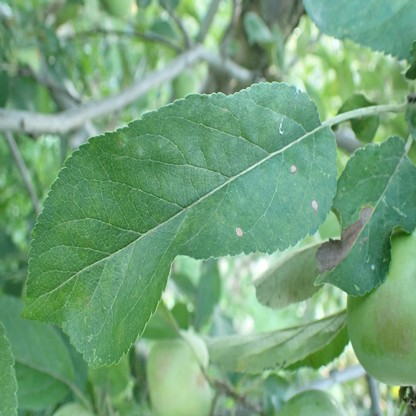frogeye: (315, 207, 372, 273), (311, 199, 318, 211), (236, 227, 244, 237), (290, 165, 296, 172)
